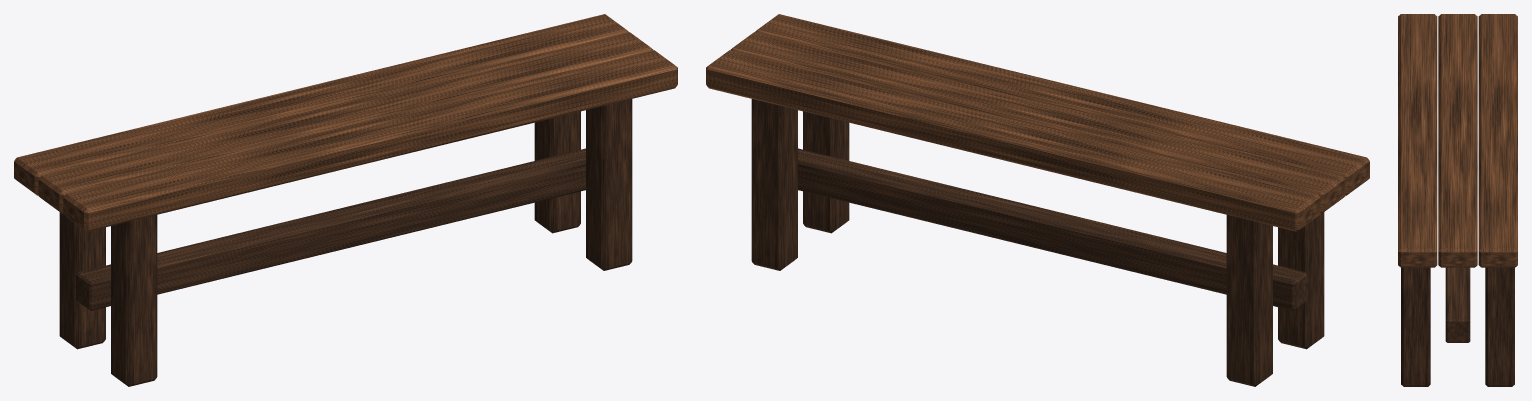
Rendered from bench.glb.
3 views of the same model, side by side, from view 1: azimuth 30°, elevation 25°; view 2: azimuth 150°, elevation 25°; view 3: azimuth 270°, elevation 25° (orthographic). The views are drawn at different scales.
Visible parts, largest first — view 1: oak, oak_dark; view 2: oak, oak_dark; view 3: oak, oak_dark.
Part boxes in pixels (x1,y1,x2,y2): oak: [14, 14, 677, 231]; oak_dark: [59, 99, 632, 386]; oak: [706, 14, 1369, 231]; oak_dark: [751, 99, 1324, 386]; oak: [1398, 14, 1517, 267]; oak_dark: [1401, 267, 1514, 386].
Bounding box in the file's own units: 1.6 × 0.49 × 0.342.
Materials: 2 (2 with a texture image).
